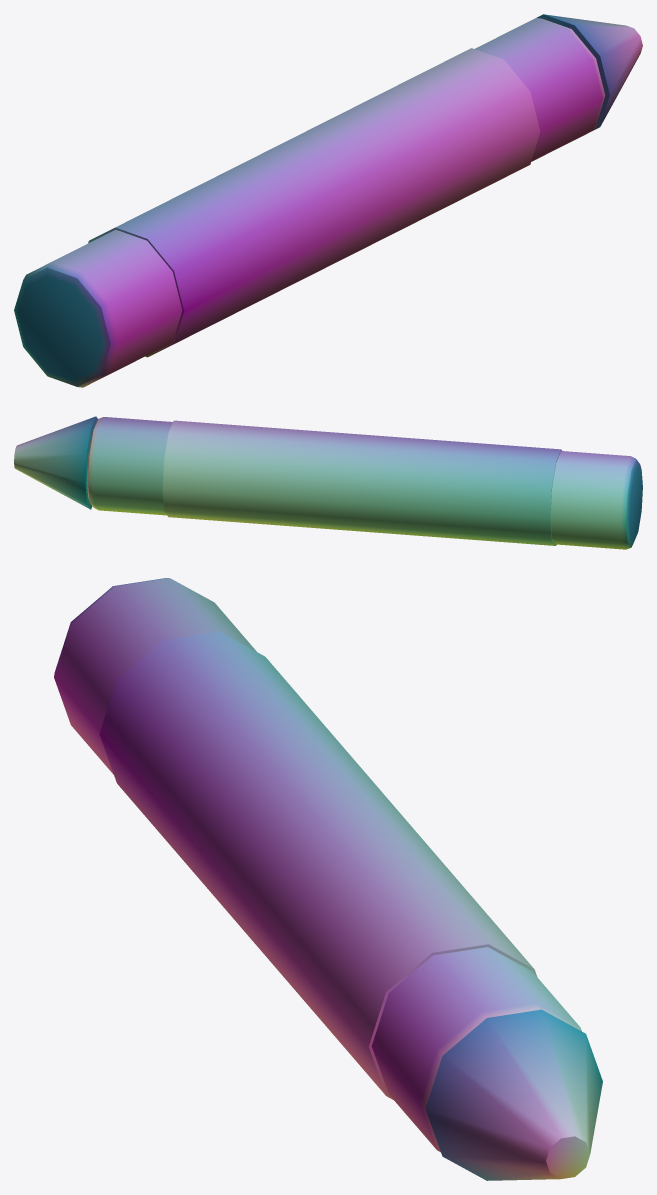
Rendered from env_deco_crayon.glb.
3 renders of one model, top to bottom at view 1: azimuth 30°, elevation 25°; view 2: azimuth 150°, elevation 25°; view 3: azimuth 270°, elevation 25°, orthographic. The views are drawn at different scales.
Visible parts, largest first — view 1: env_deco_crayon_mesh; view 2: env_deco_crayon_mesh; view 3: env_deco_crayon_mesh.
Boxes of the visible parts, bbox=[...] form: env_deco_crayon_mesh: bbox=[14, 14, 642, 387]; env_deco_crayon_mesh: bbox=[14, 416, 642, 549]; env_deco_crayon_mesh: bbox=[54, 578, 602, 1180].
Bounding box in the file's own units: 0.7738 × 0.1179 × 0.3488.
